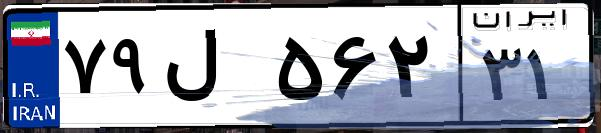1: (525, 38, 570, 115)
2: (385, 28, 445, 110)
3: (475, 38, 525, 113)
5: (270, 28, 330, 110)
6: (330, 28, 385, 110)
7: (57, 26, 110, 100)
9: (110, 28, 158, 98)
ل: (158, 20, 270, 120)
